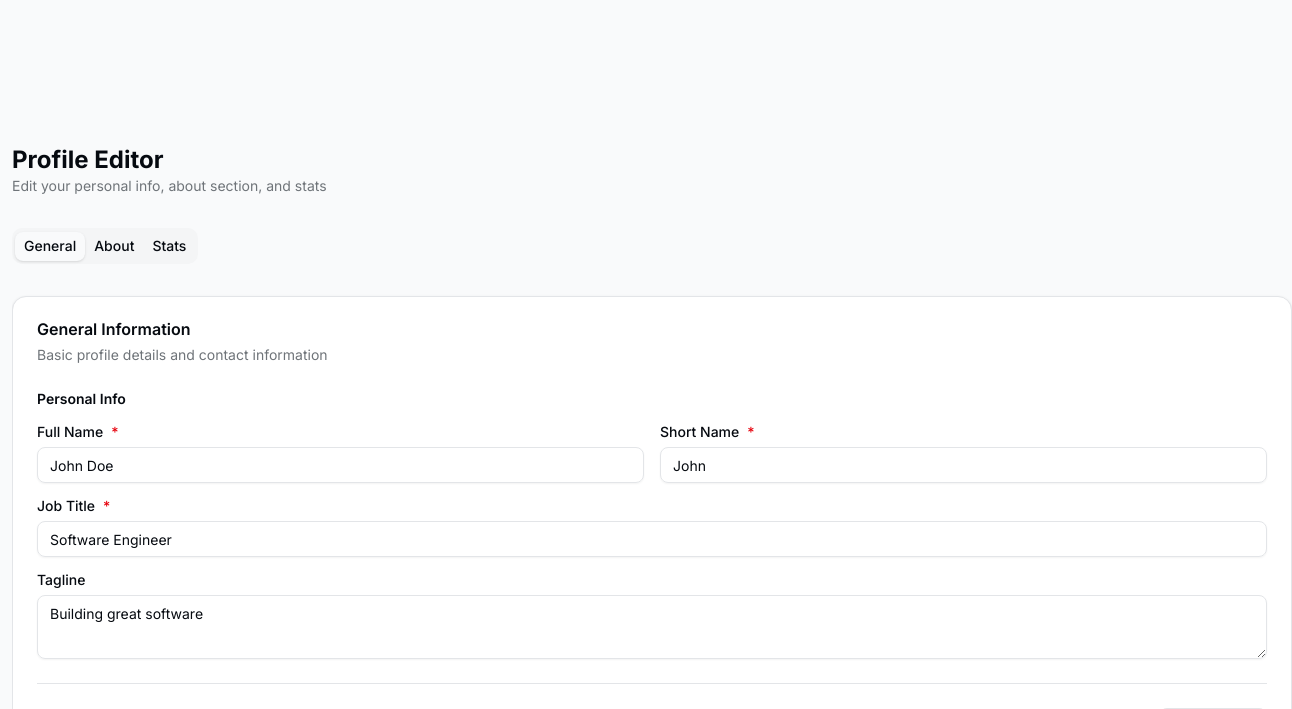
Test case: ProfileForm › switches to Stats tab and renders stat cards
This screenshot has width=1292, height=709.
Click the tab "Stats": (169, 246) x1=143 y1=232 x2=195 y2=260
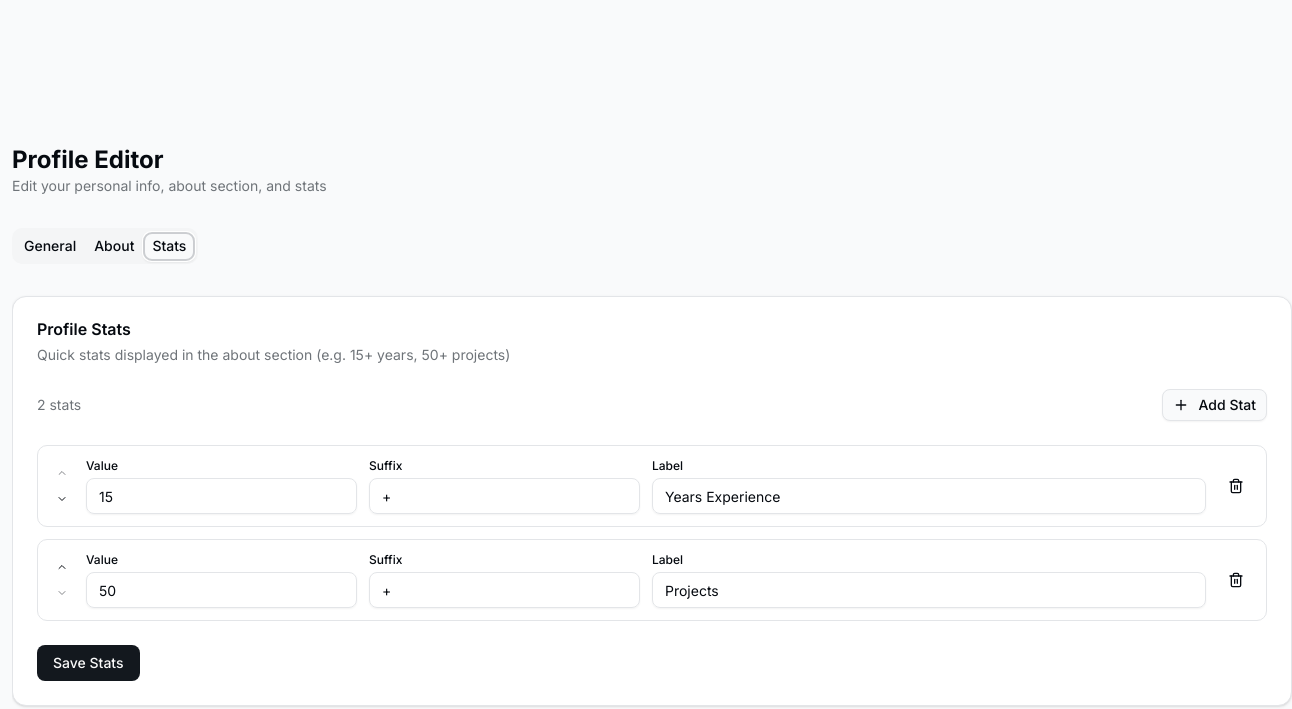
Expected: the text "2 stats" is shown, x1=37 y1=395 x2=81 y2=415
Expected: the 1st field showing "Years Experience" is shown, x1=652 y1=478 x2=1206 y2=514
Expected: the 2nd field showing "Projects" is shown, x1=652 y1=572 x2=1206 y2=608
